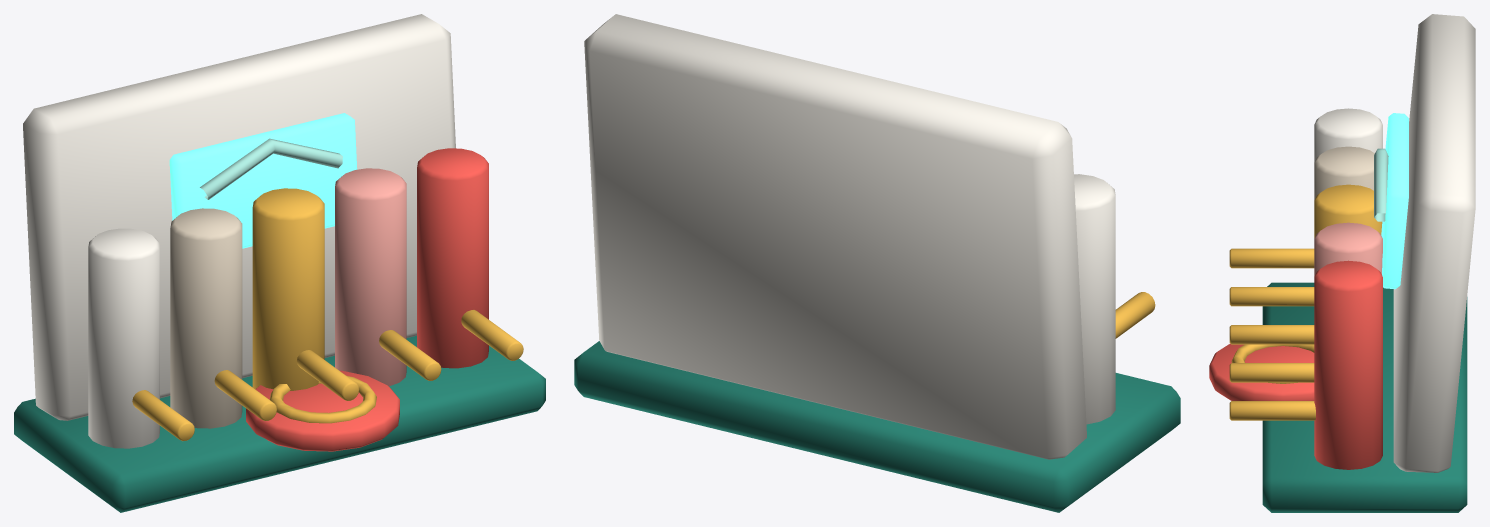
File: smart_sugar.glb
3 views of the same model, side by side, from view 1: azimuth 30°, elevation 25°; view 2: azimuth 150°, elevation 25°; view 3: azimuth 270°, elevation 25° (orthographic). The views are drawn at different scales.
Visible parts, largest first — view 1: Base_Cream, Base_MintDark, Base_Gold, Base_Coral, Base_CreamDark, Base_CoralSoft, Base_Screen.001, Base_MintSoft; view 2: Base_Cream, Base_MintDark, Base_Gold; view 3: Base_Cream, Base_Coral, Base_MintDark, Base_Gold, Base_Screen.001, Base_CoralSoft, Base_CreamDark, Base_MintSoft.
Boxes of the visible parts, x1,y1,x2,y2 form: Base_Cream: (23,14,455,448); Base_MintDark: (14,335,545,512); Base_Gold: (132,188,523,441); Base_Coral: (246,148,488,451); Base_CreamDark: (170,208,242,428); Base_CoralSoft: (335,168,406,386); Base_Screen.001: (169,113,357,248); Base_MintSoft: (200,138,342,199); Base_Cream: (584,14,1115,459); Base_MintDark: (574,341,1180,512); Base_Gold: (1115,292,1155,338); Base_Cream: (1314,14,1475,472); Base_Coral: (1209,260,1382,469); Base_MintDark: (1262,282,1467,512); Base_Gold: (1229,184,1382,420); Base_Screen.001: (1381,113,1408,289); Base_CoralSoft: (1314,222,1382,276); Base_CreamDark: (1314,146,1374,199); Base_MintSoft: (1374,148,1388,221).
Size of the model in its own units: 0.58 by 0.421 by 0.3251.
